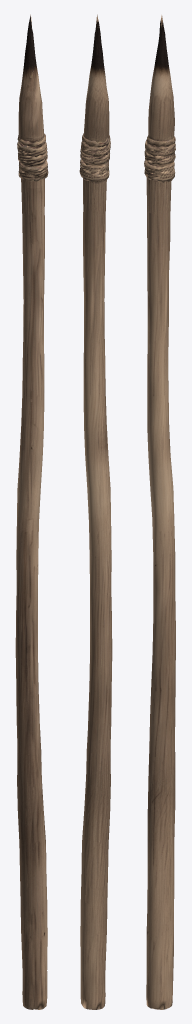
File: wooden_spear.glb
3 views of the same model, side by side, from view 1: azimuth 30°, elevation 25°; view 2: azimuth 210°, elevation 25°; view 3: azimuth 270°, elevation 25° (orthographic).
Parts seen in each view (by area): view 1: Mesh_0; view 2: Mesh_0; view 3: Mesh_0.
Boxes of the visible parts, box(x1,y1,x2,y2) form: Mesh_0: box(15, 14, 48, 1009); Mesh_0: box(79, 14, 112, 1009); Mesh_0: box(144, 15, 175, 1009).
Bounding box in the file's own units: 0.0512 × 1.8 × 0.0526.
Materials: 1 (1 with a texture image).
